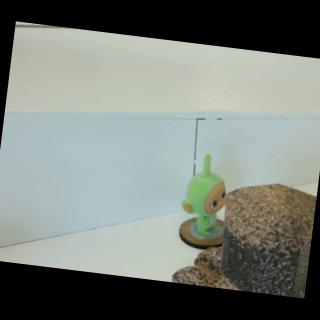teletubby: (182, 155, 226, 235)
